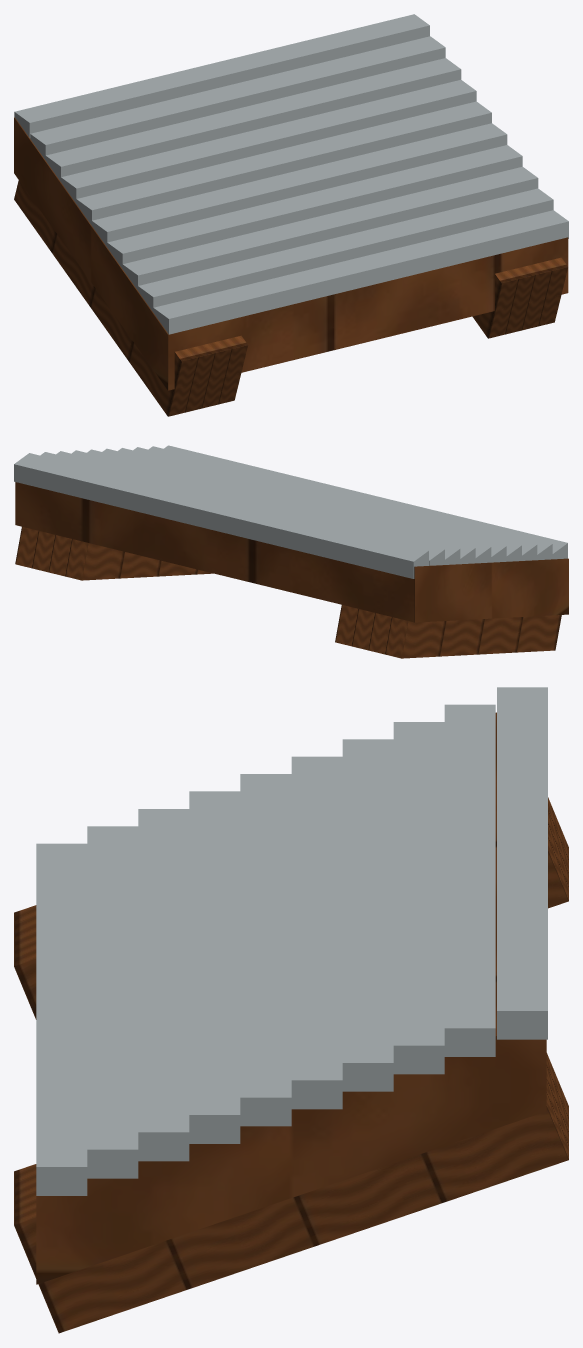
The model's file is bunker-shelter-construction-floor-cable-bridge-1ca9a400__23384.glb.
3 views of the same model, one above another, from view 1: azimuth 30°, elevation 25°; view 2: azimuth 150°, elevation 25°; view 3: azimuth 270°, elevation 25° (orthographic). The views are drawn at different scales.
Visible parts, largest first — view 1: floor-cable-bridge; view 2: floor-cable-bridge; view 3: floor-cable-bridge.
Part boxes in pixels (bbox=[...]): floor-cable-bridge: bbox=[14, 14, 568, 416]; floor-cable-bridge: bbox=[14, 445, 568, 658]; floor-cable-bridge: bbox=[14, 687, 568, 1333].
Bounding box in the file's own units: 0.6012 × 0.2843 × 0.4351.
2 materials, 1 textured.
